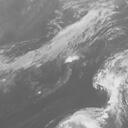cyclone: (53, 107, 107, 127)
